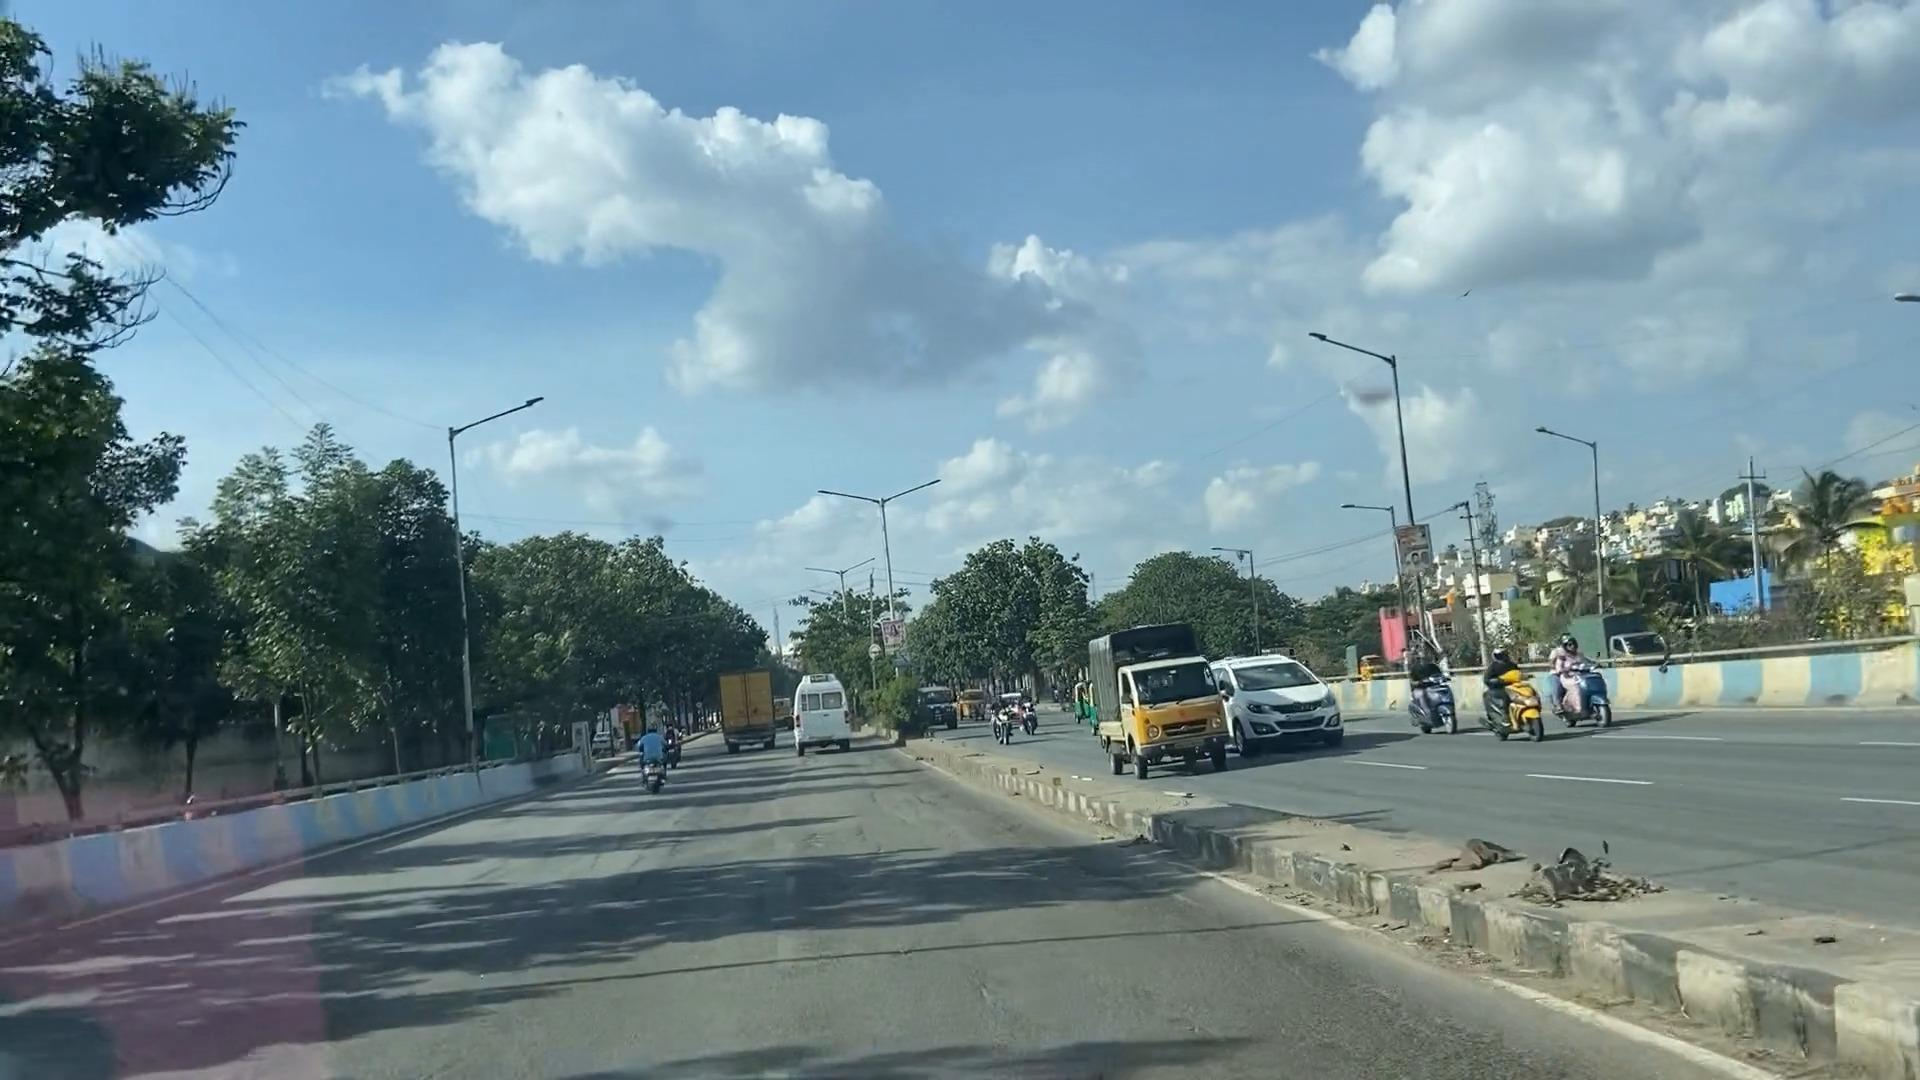HMV: (707, 658, 777, 753), (795, 663, 857, 749)
LMV: (637, 712, 666, 778)
RoadDamages: (882, 907, 1291, 1080), (1279, 965, 1510, 1080), (417, 963, 496, 1080)
